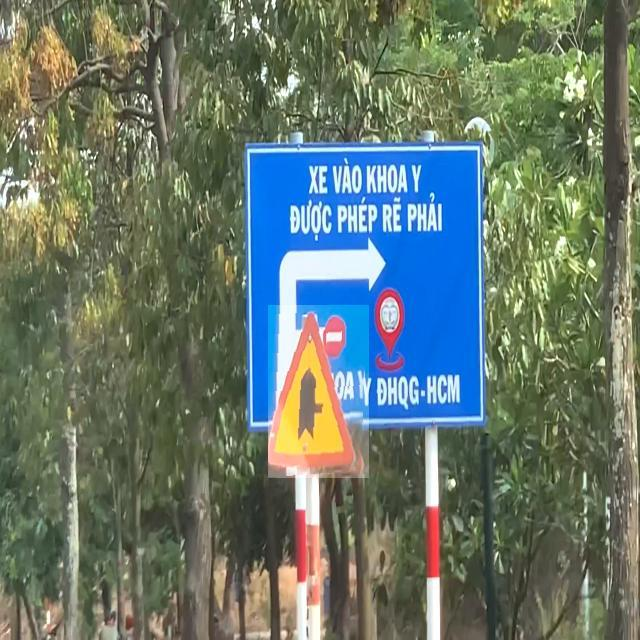W-207b: (268, 305, 369, 478)
